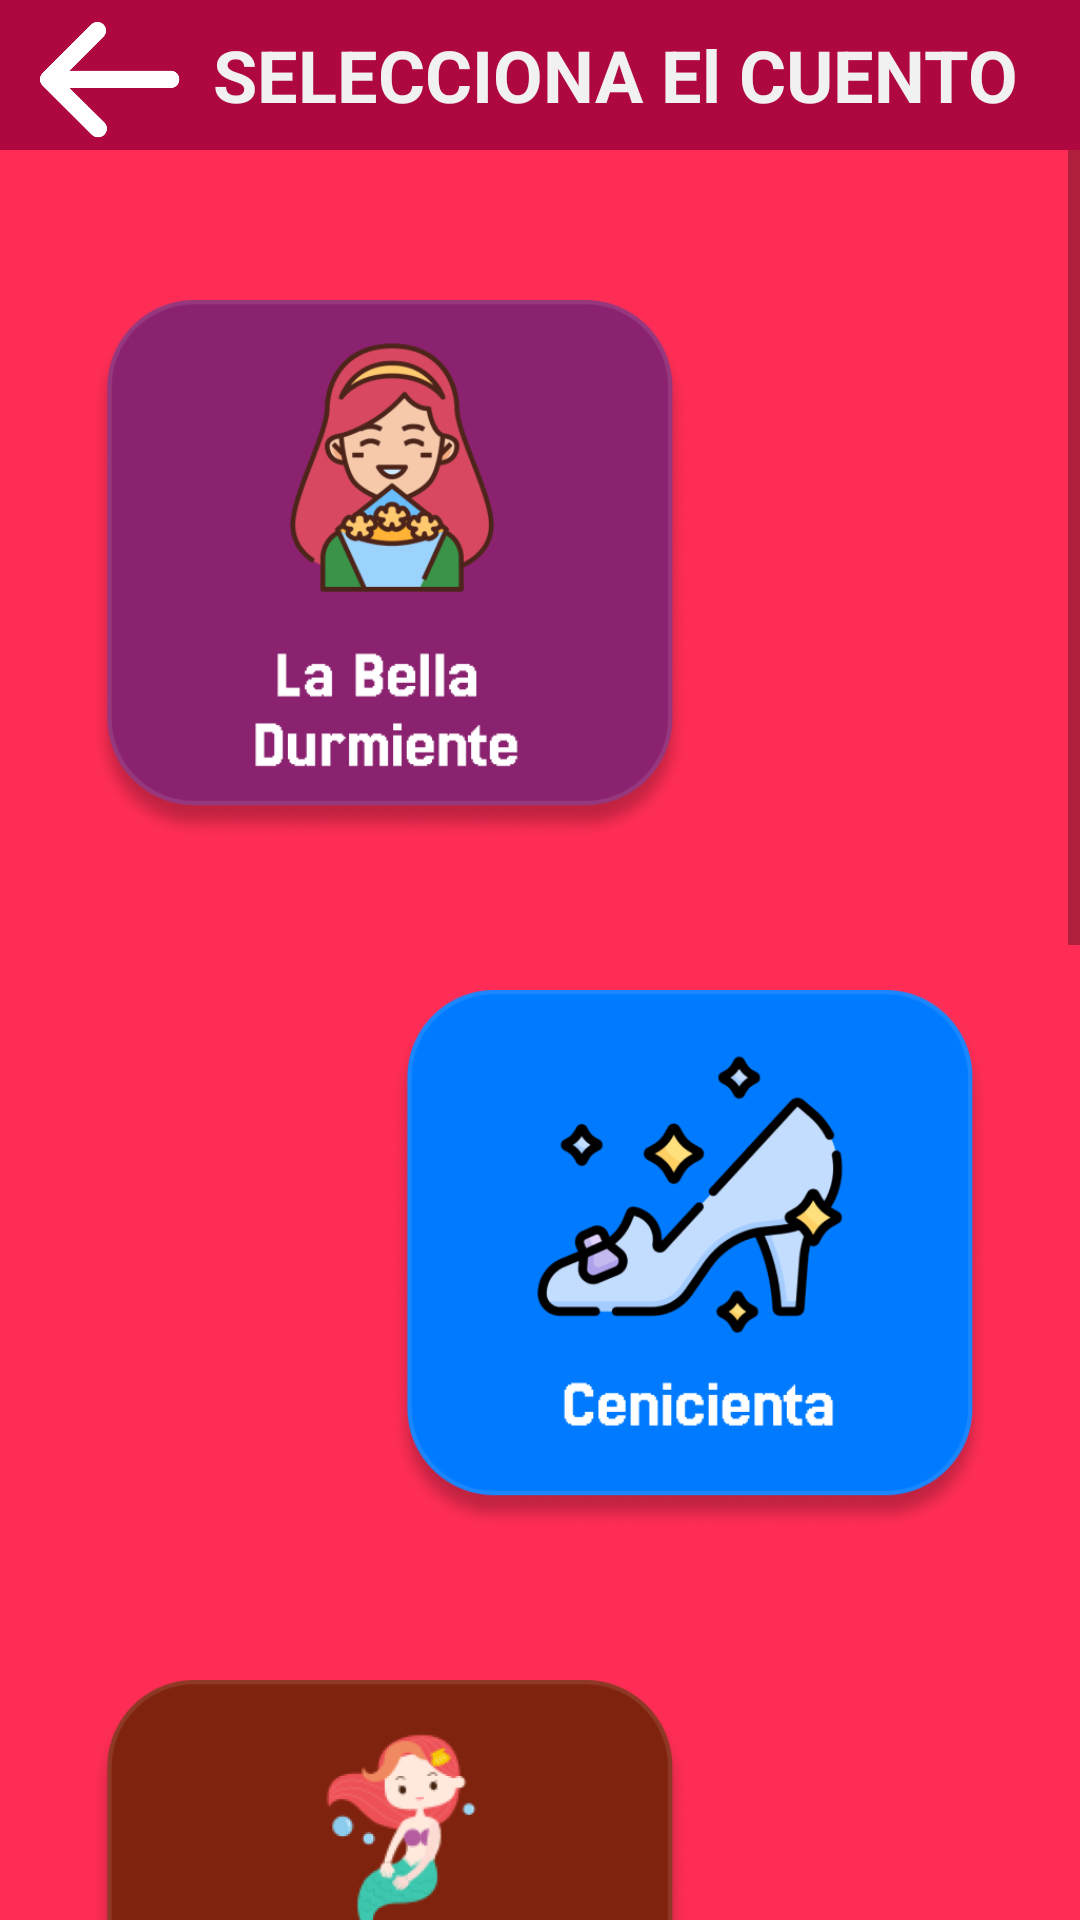

Icons on this 1080 x 1920 Android screen, each with the point to tap as (x=x, y=y):
flecha izquierda: (x=110, y=80)
